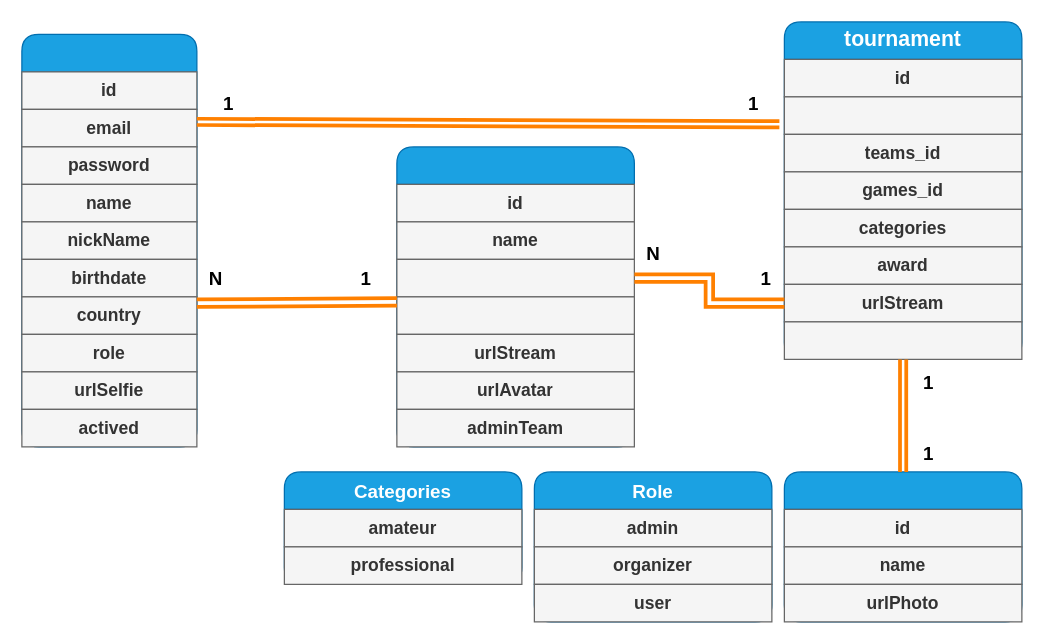
Image size: 1044x644. Some labels were removed from this diagram. Here are the shapes that lost their labels. From the top down, the box of each, then its label:
(783, 96, 1022, 134): date
(21, 33, 197, 447): users
(396, 258, 634, 297): users_id
(396, 146, 634, 447): teams
(396, 296, 634, 334): tournament_id
(783, 321, 1022, 359): user_id
(783, 471, 1022, 622): games
